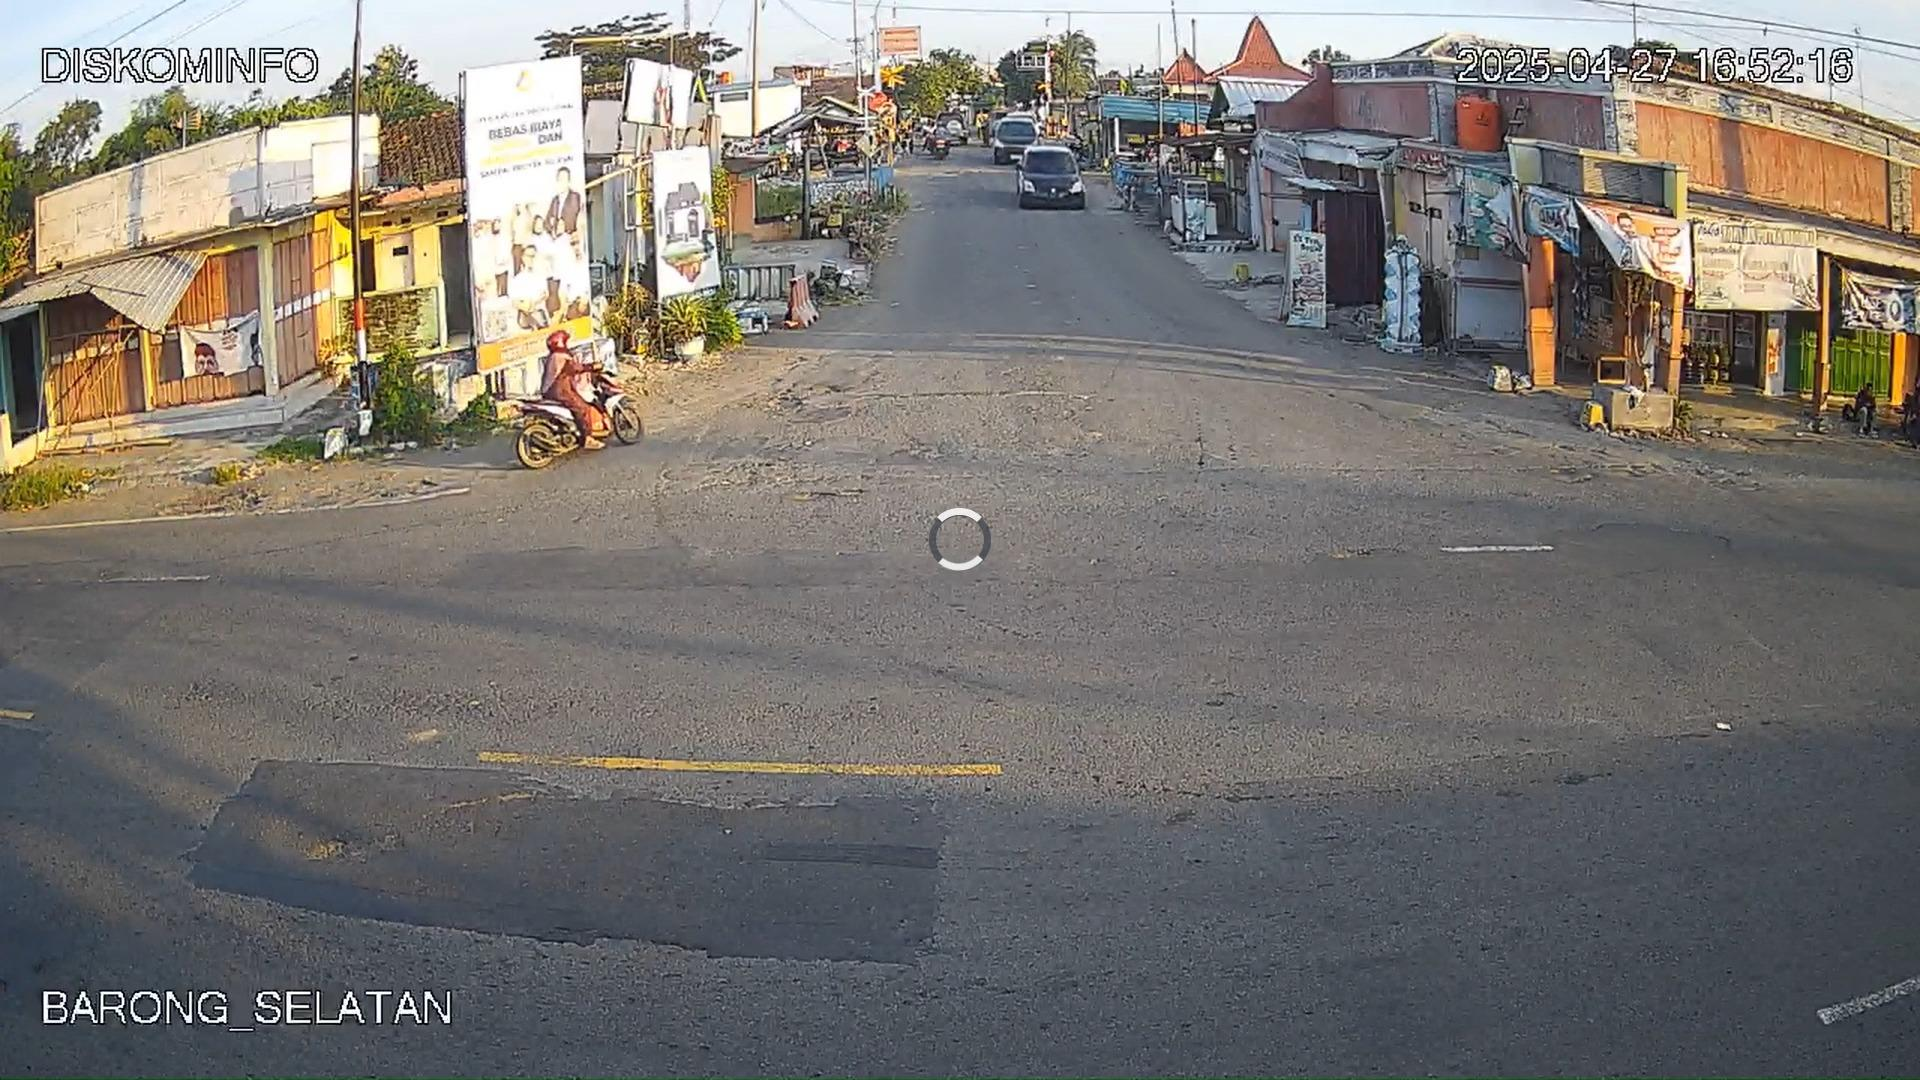Motor: (508, 327, 646, 469)
mobil: (1015, 142, 1087, 210)
